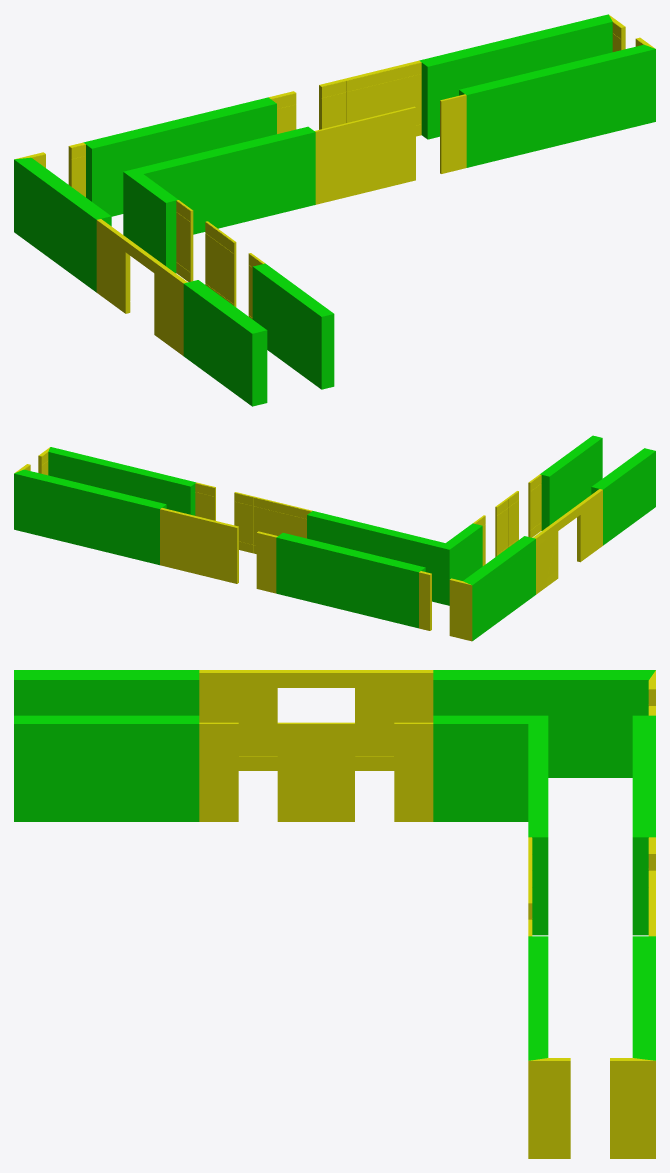
Rendered from CorridorBASE2.fbx.
The picture shows the model from 3 angles, top to bottom: view 1: azimuth 30°, elevation 25°; view 2: azimuth 150°, elevation 25°; view 3: azimuth 270°, elevation 25°; orthographic projection. The views are drawn at different scales.
Visible parts, largest first — view 1: CorridorBASE2; view 2: CorridorBASE2; view 3: CorridorBASE2.
Part boxes in pixels (x1=…): CorridorBASE2: x1=14, y1=14, x2=655, y2=406; CorridorBASE2: x1=14, y1=435, x2=655, y2=641; CorridorBASE2: x1=14, y1=670, x2=655, y2=1158.
Size of the model in its own units: 2643 by 309 by 1835.
